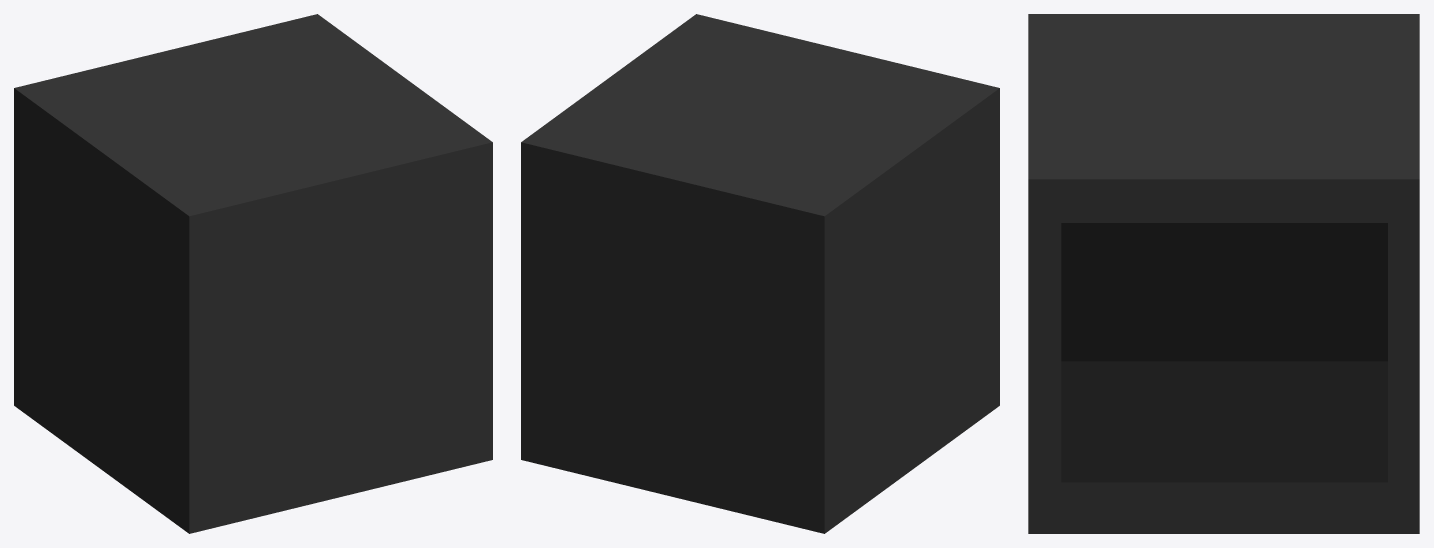
Rendered from Safe.fbx.
3 renders of one model, left to right at view 1: azimuth 30°, elevation 25°; view 2: azimuth 150°, elevation 25°; view 3: azimuth 270°, elevation 25°, orthographic. The views are drawn at different scales.
Parts seen in each view (by area): view 1: Safe; view 2: Safe; view 3: Safe.
Boxes of the visible parts, left/top/right/bottom form: Safe: left=14, top=14, right=492, bottom=533; Safe: left=521, top=14, right=999, bottom=533; Safe: left=1028, top=14, right=1419, bottom=533.
Size of the model in its own units: 1.89 by 1.89 by 1.89.
